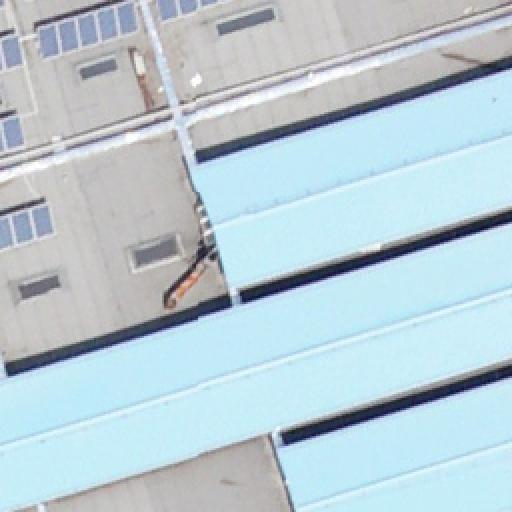solar-panel: (36, 0, 140, 60), (0, 203, 58, 253), (157, 0, 235, 26), (0, 30, 26, 74), (0, 114, 26, 150), (0, 0, 8, 8), (22, 0, 34, 4)
